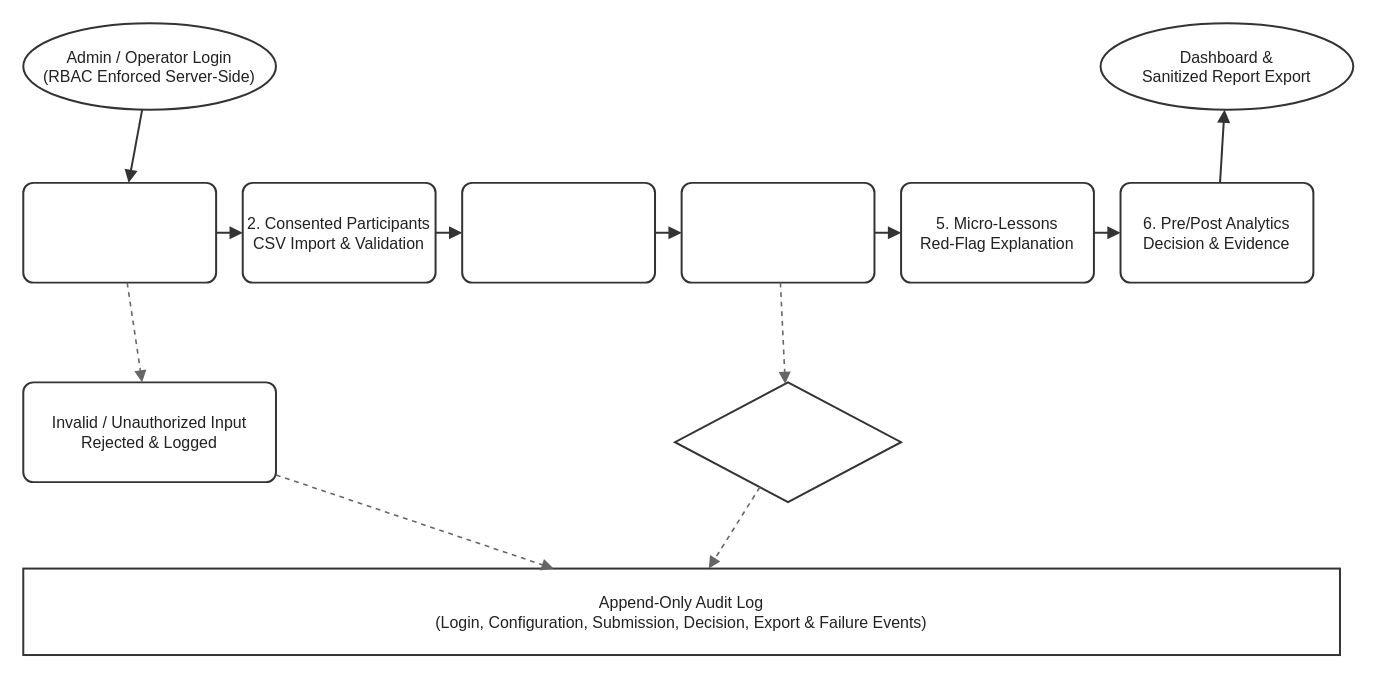
The diagram is 1378 pixels wide and 680 high, and some of its shapes have lost their labels. Each missing label, with the centre of its shape:
"1. Campaign Templates Input Validation" belongs at point 119,232.
"3. Simulated Landing Page Credentials Discarded" belongs at point 558,232.
"4. Event Tracking Sent / Opened / Clicked / Reported" belongs at point 777,232.
"Opt-Out Link Exclude from Future Sends" belongs at point 787,441.
